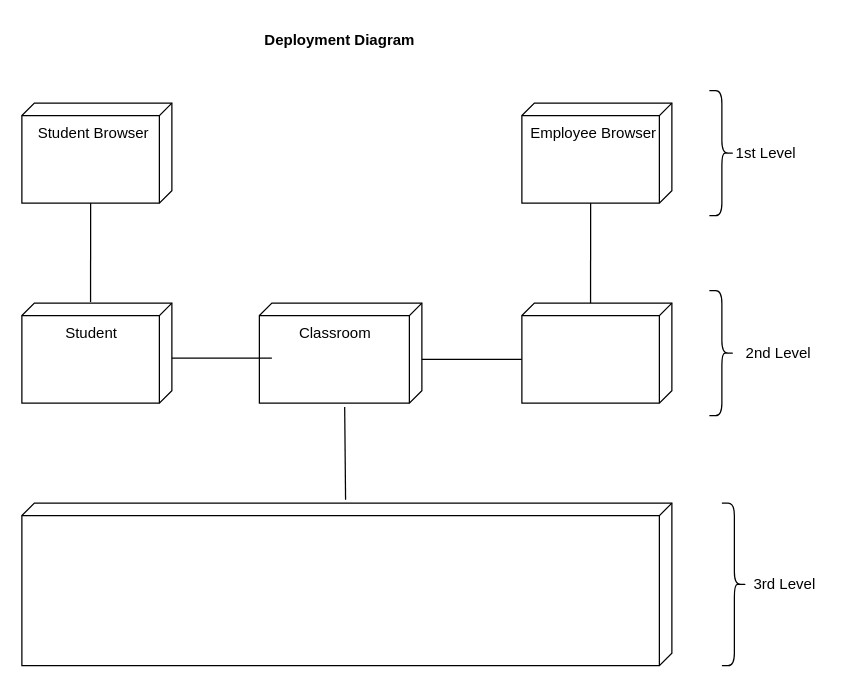
The diagram is 850 pixels wide and 688 high, and some of its shapes have lost their labels. The centre of each missing label's shape, as x and y in pixels:
"Database" belongs at point 346,584.
"Employee" belongs at point 596,352.
